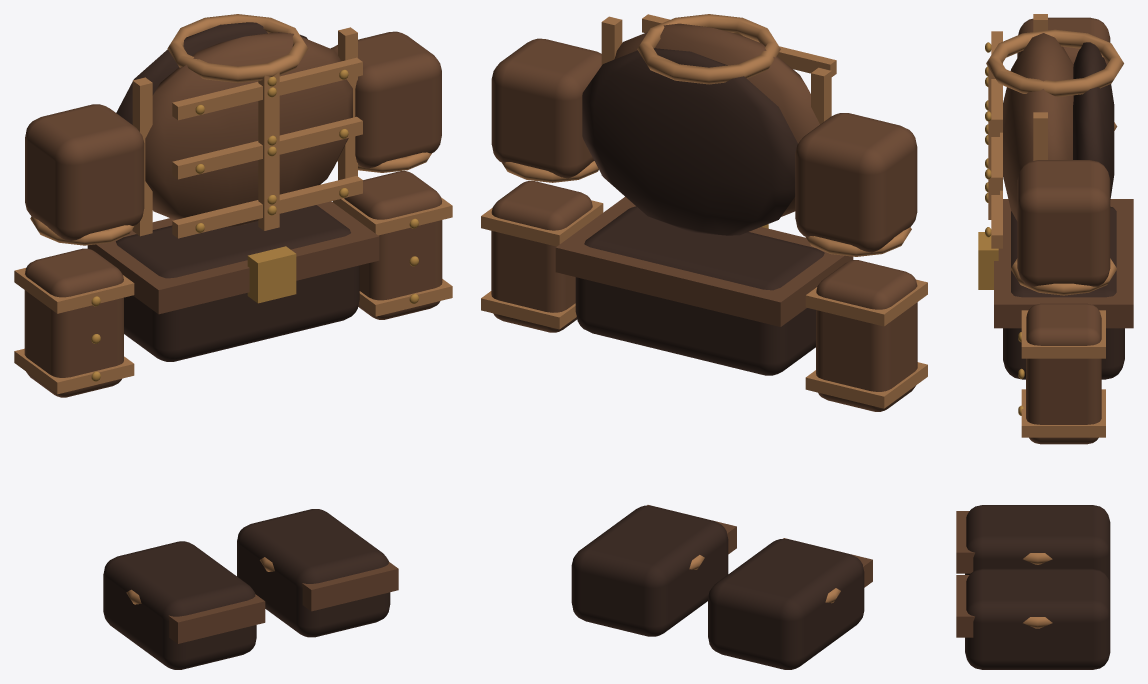
The model's file is armor-studded.glb.
3 views of the same model, side by side, from view 1: azimuth 30°, elevation 25°; view 2: azimuth 150°, elevation 25°; view 3: azimuth 270°, elevation 25° (orthographic). The views are drawn at different scales.
Visible parts, largest first — view 1: leather-boot (×2), leather-shoulder-wrap (×2), leather-cuirass-front, leather-waist, leather-bracer (×2), studded-front-strap (×3), leather-belt, bracer-strap (×4), boot-toe-cap (×2), leather-neck-collar, studded-center-strap, leather-cuirass-back (+4 smaller); view 2: leather-boot (×2), leather-cuirass-back, leather-shoulder-wrap (×2), leather-waist, leather-bracer (×2), leather-belt, bracer-strap (×4), leather-cuirass-front, leather-neck-collar, shoulder-wrap-edge (×2), studded-front-strap, leather-side-strap-left (+1 smaller); view 3: leather-boot (×2), leather-shoulder-wrap (×2), leather-bracer, leather-cuirass-front, leather-belt, leather-cuirass-back, leather-neck-collar, leather-waist, bracer-strap (×2), studded-front-strap (×3), boot-toe-cap (×2), shoulder-wrap-edge (+3 smaller).
Boxes of the visible parts, x1,y1,x2,y2 form: leather-boot (×2): (103,509,390,669); leather-shoulder-wrap (×2): (25,31,441,241); leather-cuirass-front: (145,32,352,227); leather-waist: (116,205,359,361); leather-bracer (×2): (24,171,442,397); studded-front-strap (×3): (172,57,362,238); leather-belt: (87,201,379,314); bracer-strap (×4): (14,197,452,394); boot-toe-cap (×2): (168,562,398,643); leather-neck-collar: (167,14,308,82); studded-center-strap: (258,72,279,230); leather-cuirass-back: (116,22,307,124); leather-boot (×2): (571,505,864,669); leather-cuirass-back: (582,48,797,235); leather-shoulder-wrap (×2): (491,38,917,252); leather-waist: (575,206,824,375); leather-bracer (×2): (491,181,917,411); leather-belt: (555,197,853,326); bracer-strap (×4): (481,200,927,408); leather-cuirass-front: (614,23,819,216); leather-neck-collar: (637,14,780,84); shoulder-wrap-edge (×2): (502,161,911,256); studded-front-strap: (642,14,836,76); leather-side-strap-left: (811,67,831,124); leather-boot (×2): (965,505,1110,669); leather-shoulder-wrap (×2): (1017,17,1110,286); leather-bracer: (1026,303,1101,444); leather-cuirass-front: (1003,33,1073,220); leather-belt: (994,199,1133,328); leather-cuirass-back: (1073,42,1114,199); leather-neck-collar: (986,29,1123,96); leather-waist: (1003,206,1124,379); bracer-strap (×2): (1021,310,1105,437); studded-front-strap (×3): (991,31,1002,248); boot-toe-cap (×2): (956,511,974,637); shoulder-wrap-edge: (1010,258,1116,295).
Size of the model in its own units: 0.77 by 1.09 by 0.305.
